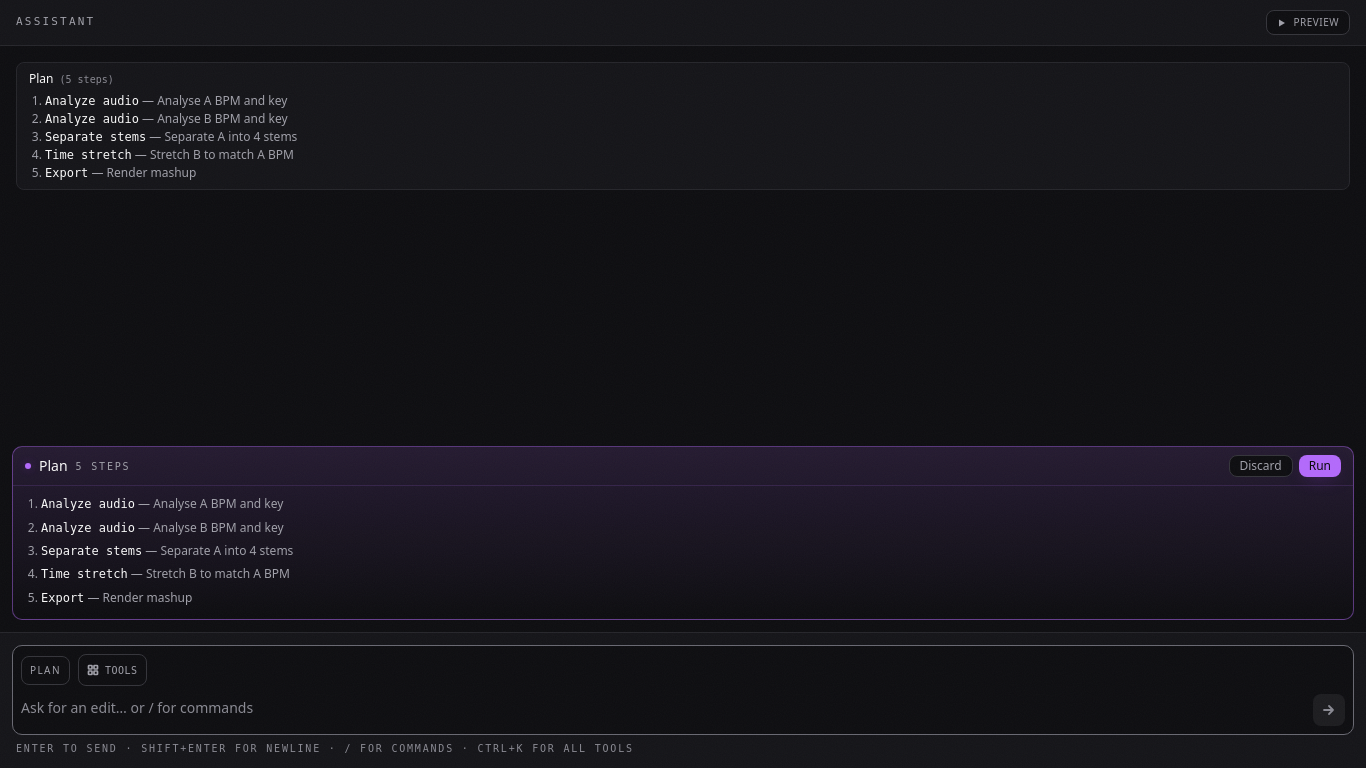
PlanCard (inside Chat) › plan approval card disappears after Run is clicked
The width and height of the screenshot is (1366, 768).
Expected: the element with test id "plan-approval-card" is shown, [12,446,1354,620]
Click the button with test id "plan-run-button" at {"x": 1320, "y": 466}, box [1299,455,1341,477]
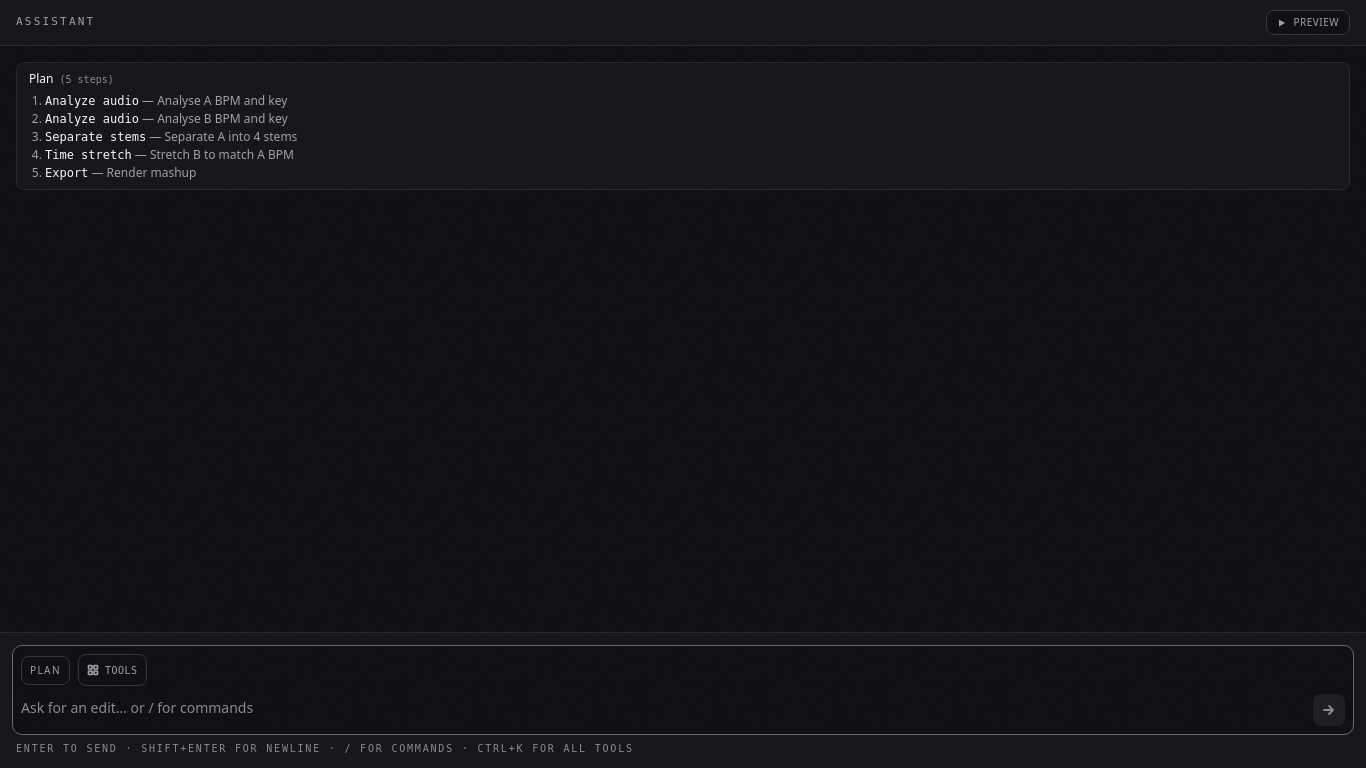
Now the element with test id "plan-approval-card" is gone
